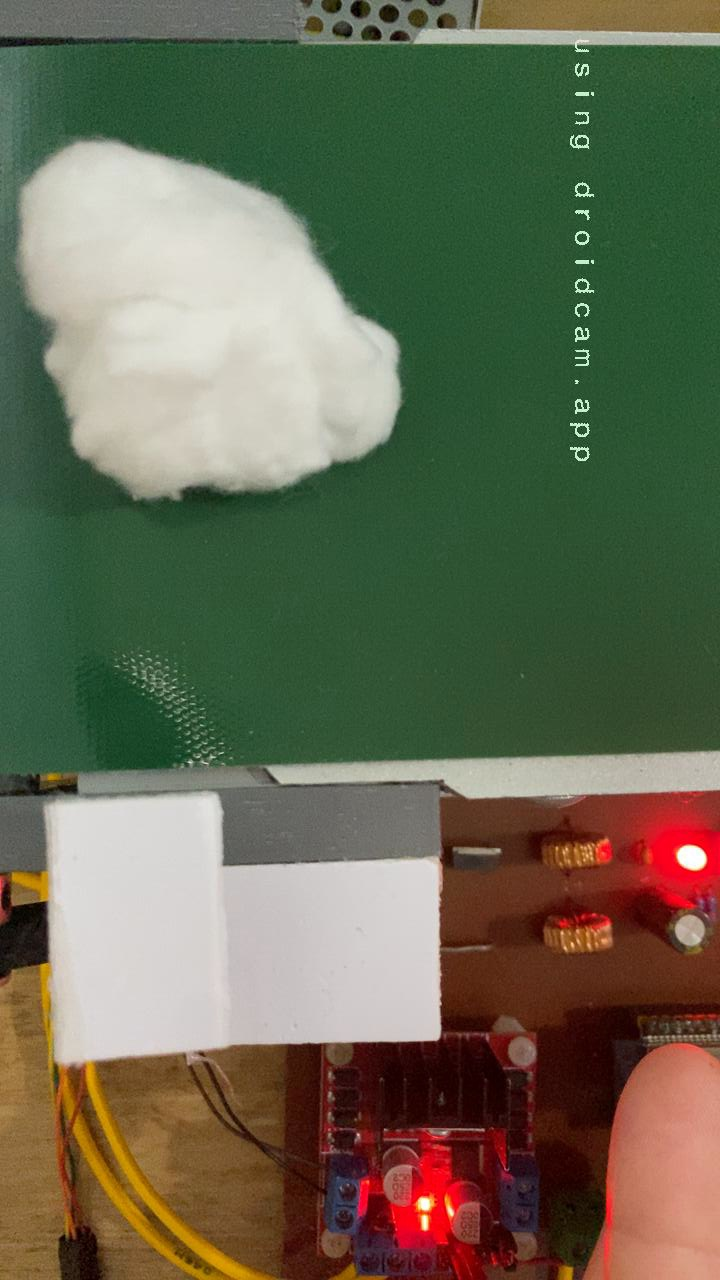cotton: (9, 132, 409, 504)
